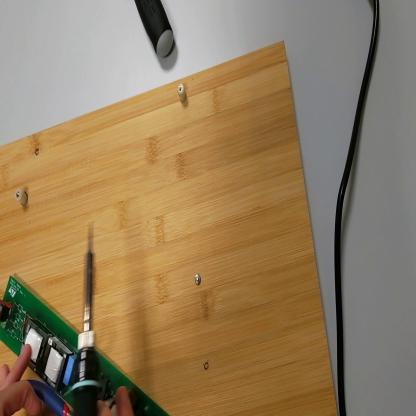hand: (2, 344, 42, 413), (98, 385, 135, 414)
high voltage board: (1, 278, 172, 416)
pliers: (20, 382, 71, 412)
screwdriver-: (136, 2, 177, 56)
welder probe tip: (72, 224, 97, 413)
working area: (3, 40, 340, 416)
